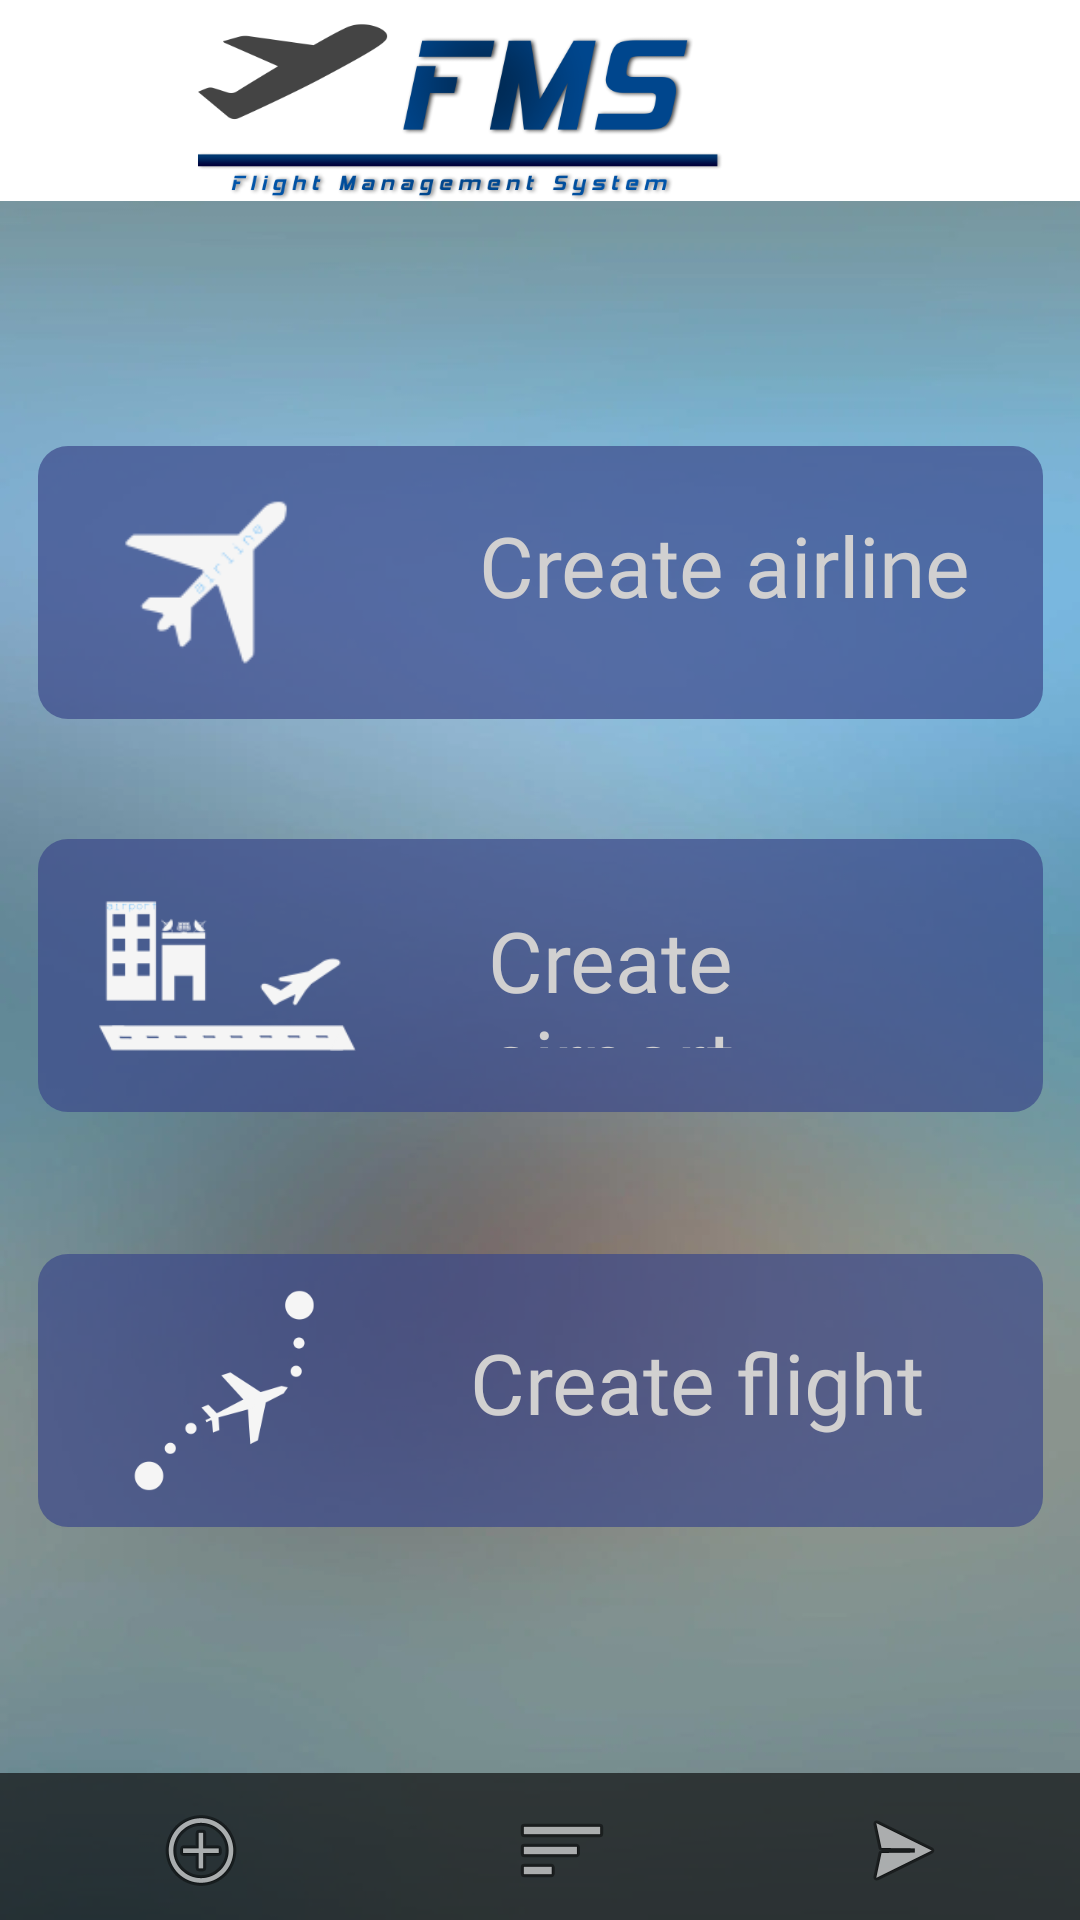

Icons on this 1080×1920 Android screen, each with its box as (x1, y1, x2, y2):
add: (167, 1817, 235, 1884)
send: (875, 1822, 933, 1879)
sort by size: (522, 1826, 601, 1876)
